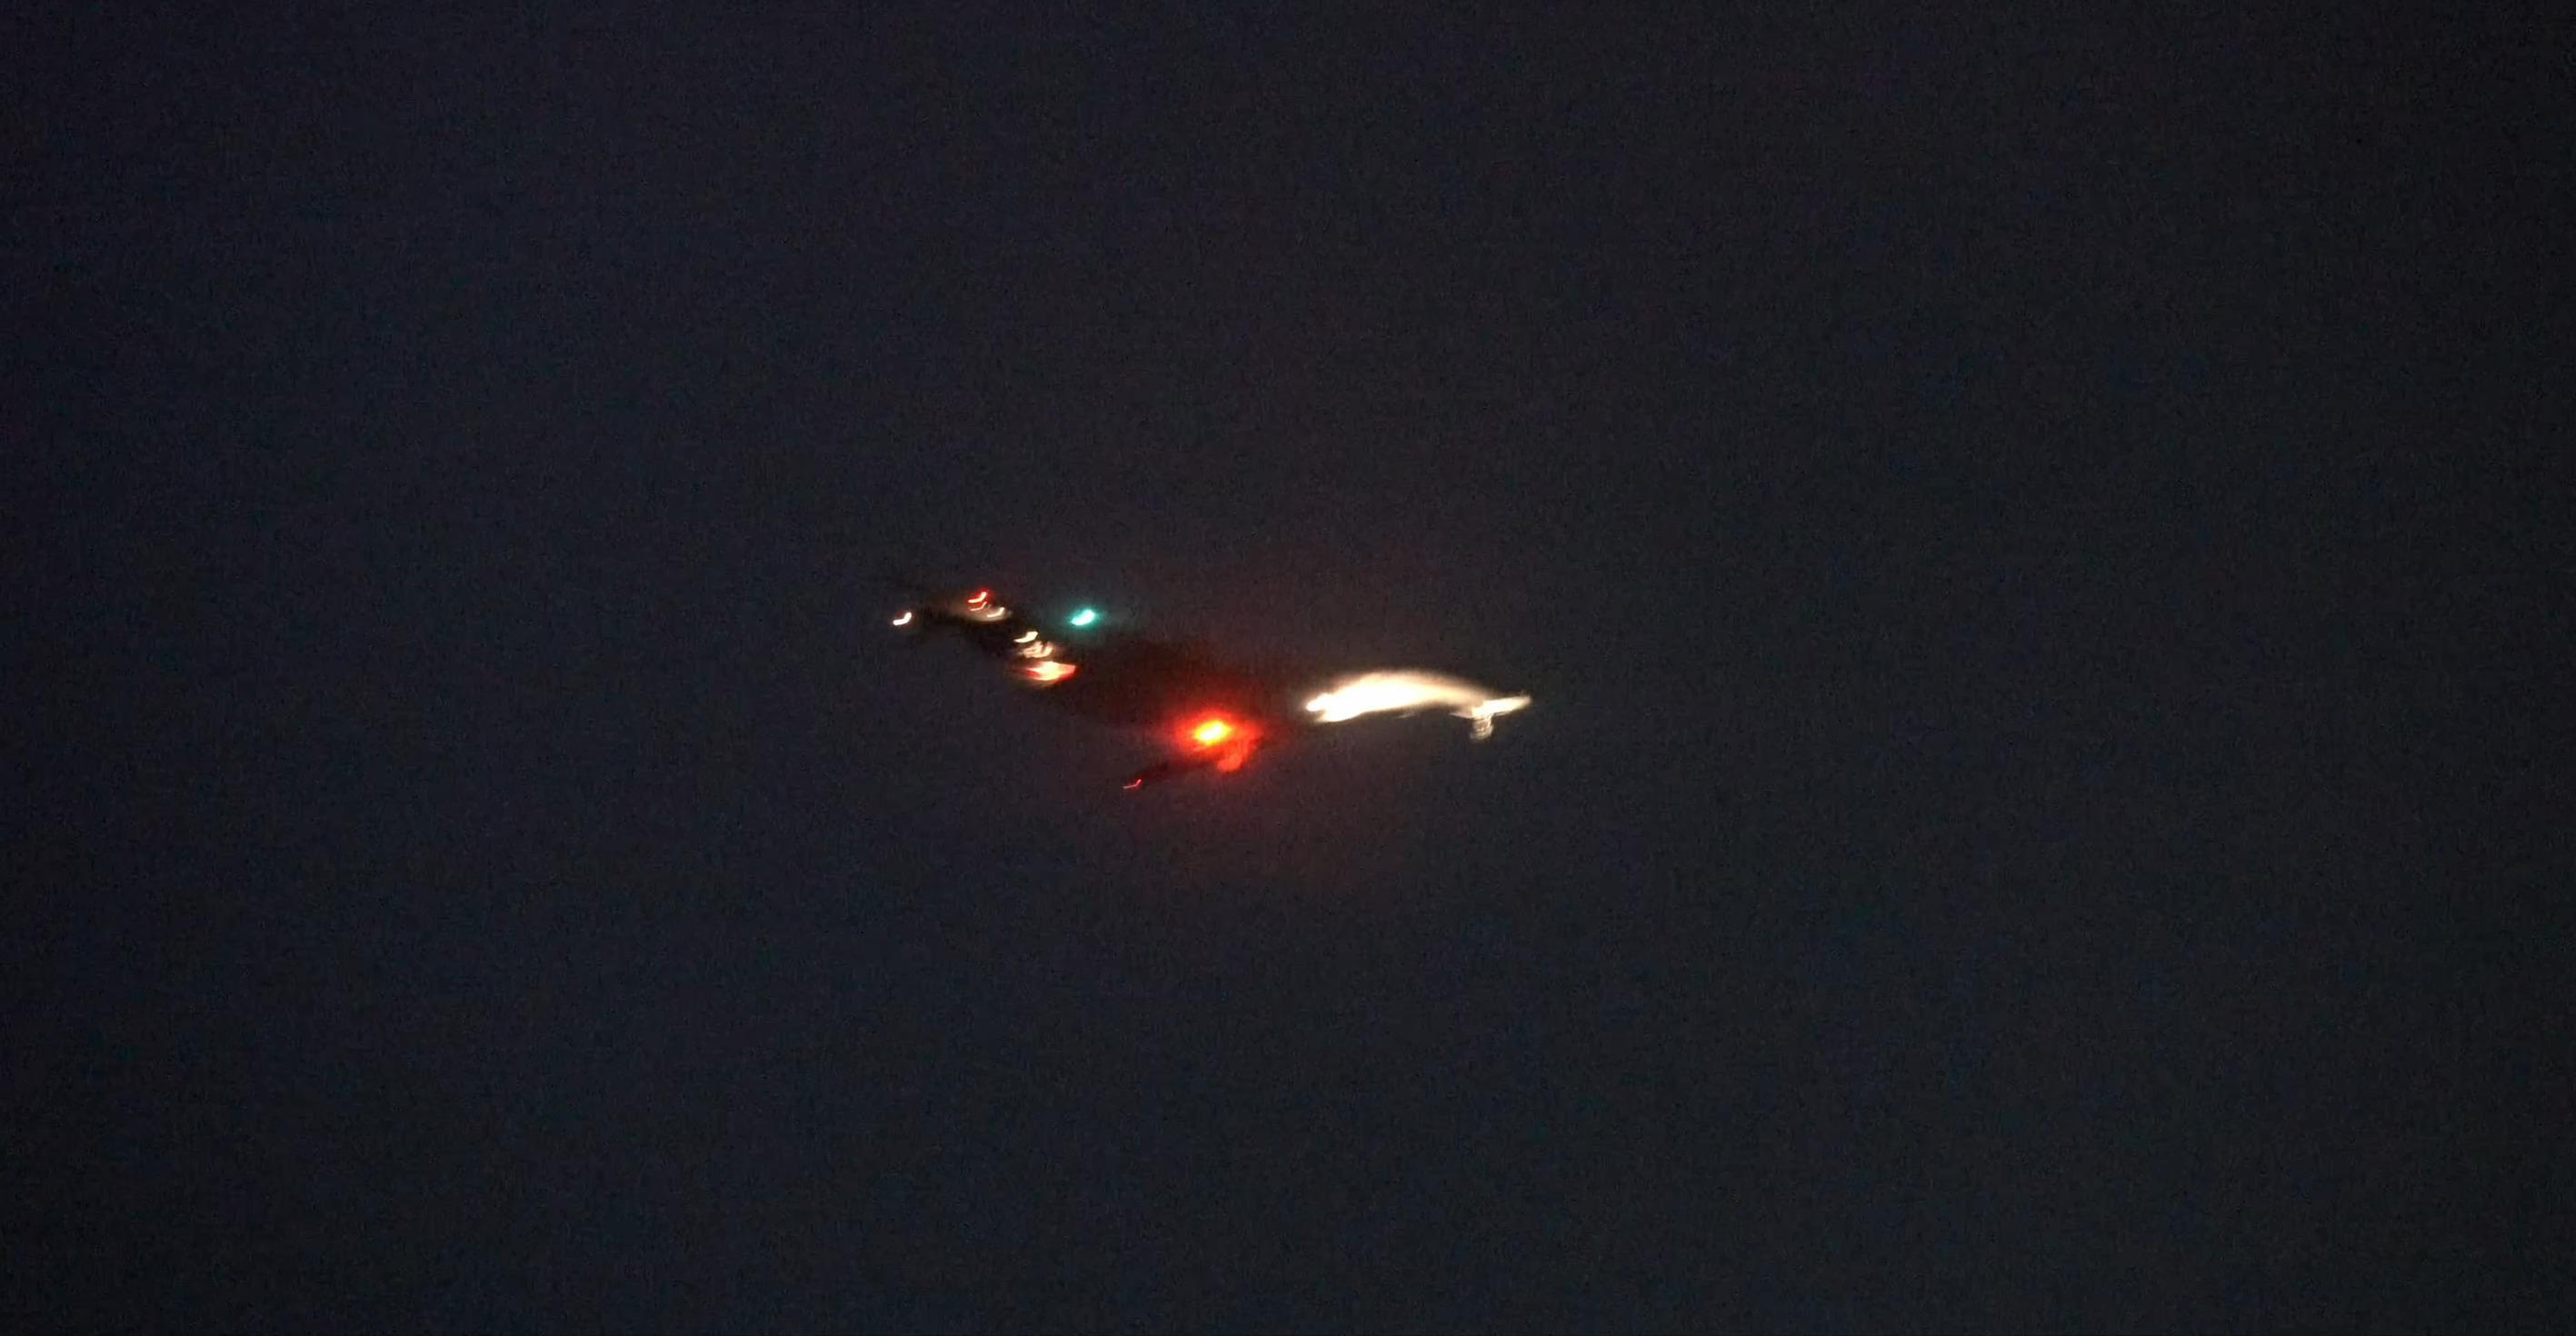Plane: (956, 556, 1503, 787)
